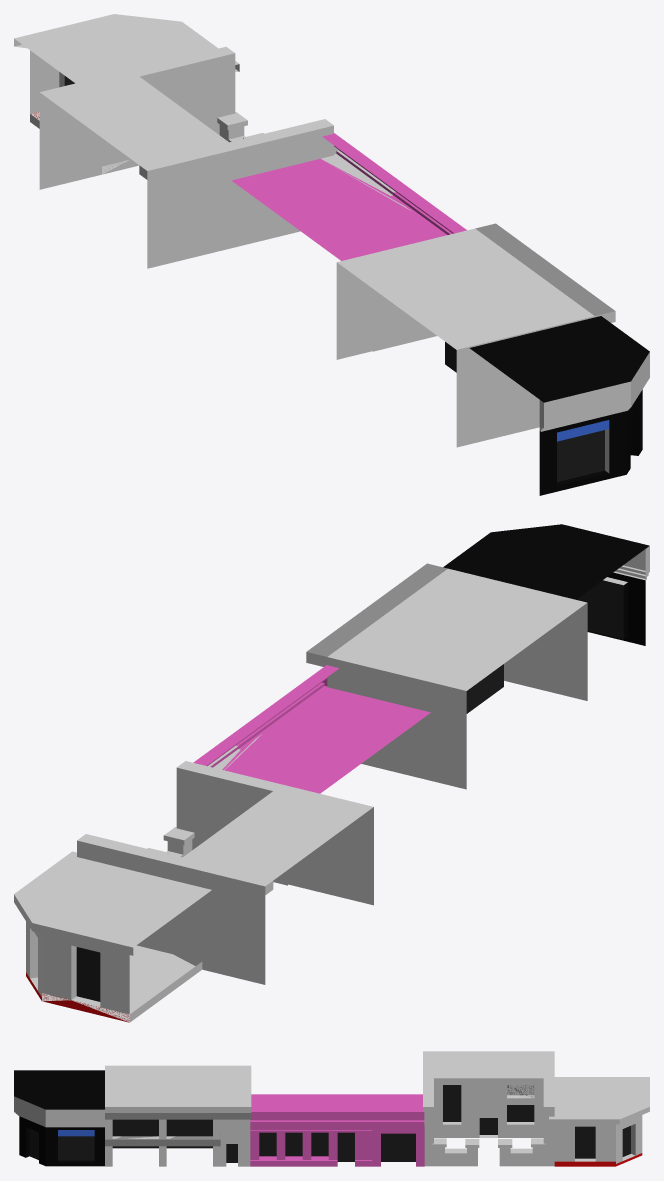
Rendered from Cuadra-1-Derecha.fbx.
3 views of the same model, one above another, from view 1: azimuth 30°, elevation 25°; view 2: azimuth 150°, elevation 25°; view 3: azimuth 270°, elevation 25° (orthographic). The views are drawn at different scales.
Parts seen in each view (by area): view 1: Plane; view 2: Plane; view 3: Plane.
Boxes of the visible parts, <box> form: Plane: <box>14,14,649,495</box>; Plane: <box>14,524,649,1022</box>; Plane: <box>14,1051,649,1166</box>.
Size of the model in its own units: 2003 by 925 by 8700.
